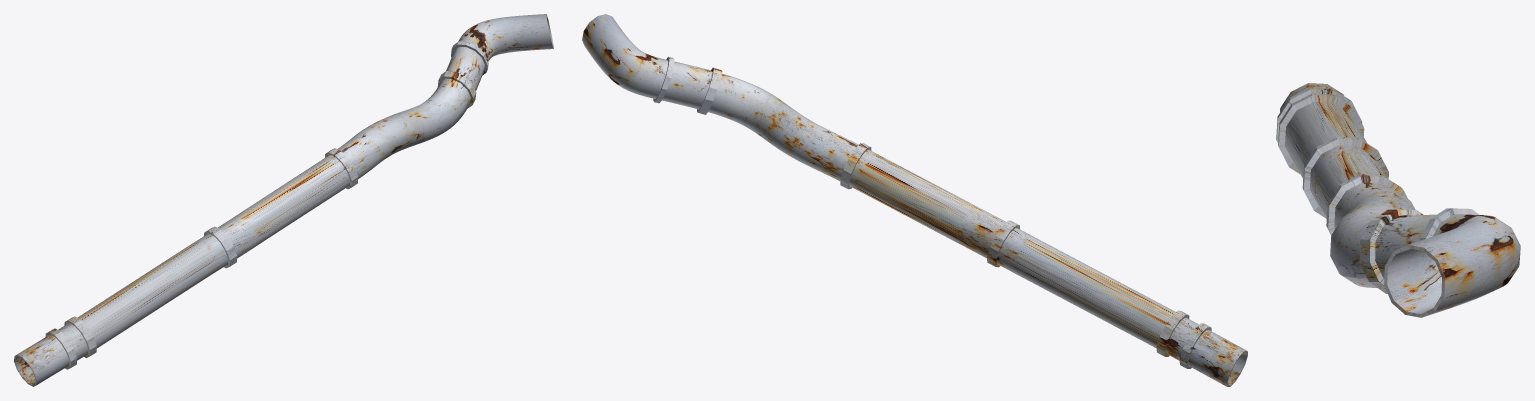
File: pipe.fbx
3 renders of one model, left to right at view 1: azimuth 30°, elevation 25°; view 2: azimuth 150°, elevation 25°; view 3: azimuth 270°, elevation 25°, orthographic. The views are drawn at different scales.
Visible parts, largest first — view 1: pipe; view 2: pipe; view 3: pipe.
Boxes of the visible parts, x1,y1,x2,y2 form: pipe: [14, 14, 553, 386]; pipe: [582, 14, 1247, 386]; pipe: [1276, 83, 1520, 317].
Size of the model in its own units: 133 by 49.48 by 25.01.
